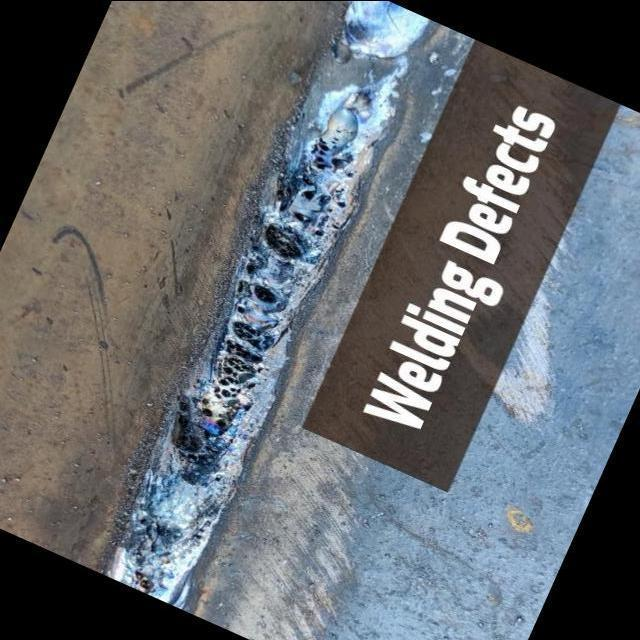defect: (170, 320, 277, 467), (307, 123, 360, 179), (261, 219, 307, 261), (235, 278, 276, 305), (139, 514, 173, 542), (269, 182, 294, 216), (130, 568, 154, 593), (299, 171, 319, 201), (291, 209, 315, 222), (191, 524, 207, 541), (243, 263, 258, 274), (235, 302, 246, 315), (330, 222, 345, 230), (323, 206, 337, 214), (333, 186, 347, 194), (314, 228, 326, 237), (335, 201, 347, 208), (250, 245, 261, 251), (213, 474, 220, 482)
